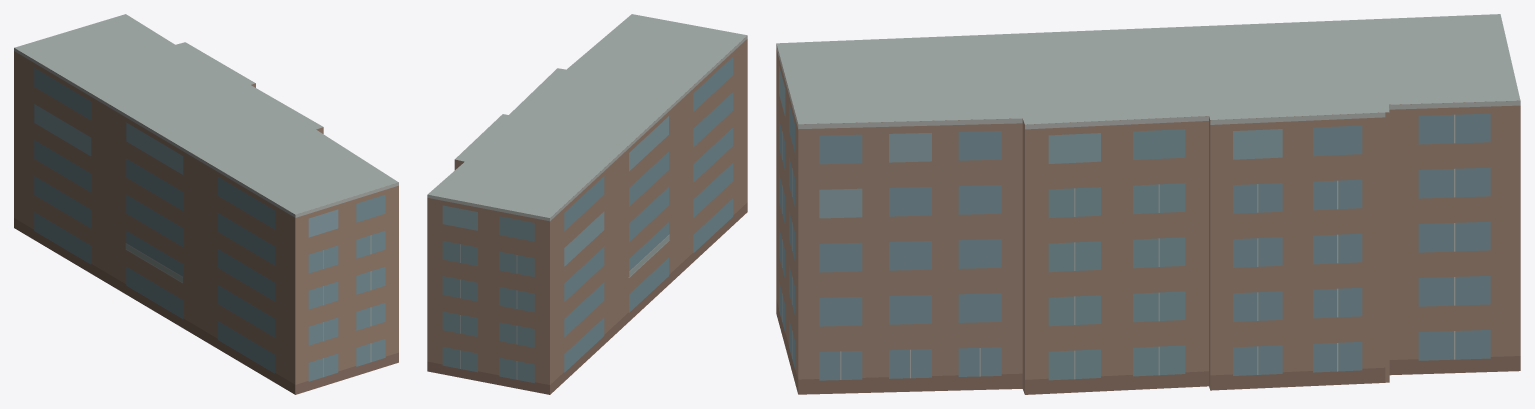
Rendered from survey-upis-32647678.glb.
3 renders of one model, left to right at view 1: azimuth 30°, elevation 25°; view 2: azimuth 150°, elevation 25°; view 3: azimuth 270°, elevation 25°, orthographic. The views are drawn at different scales.
Parts seen in each view (by area): view 1: survey-upis-32647678.tmp; view 2: survey-upis-32647678.tmp; view 3: survey-upis-32647678.tmp.
Part boxes in pixels (x1=…): survey-upis-32647678.tmp: x1=14, y1=14, x2=398, y2=394; survey-upis-32647678.tmp: x1=427, y1=14, x2=747, y2=394; survey-upis-32647678.tmp: x1=776, y1=14, x2=1520, y2=394.
Size of the model in its own units: 11.85 by 13.5 by 33.69.
